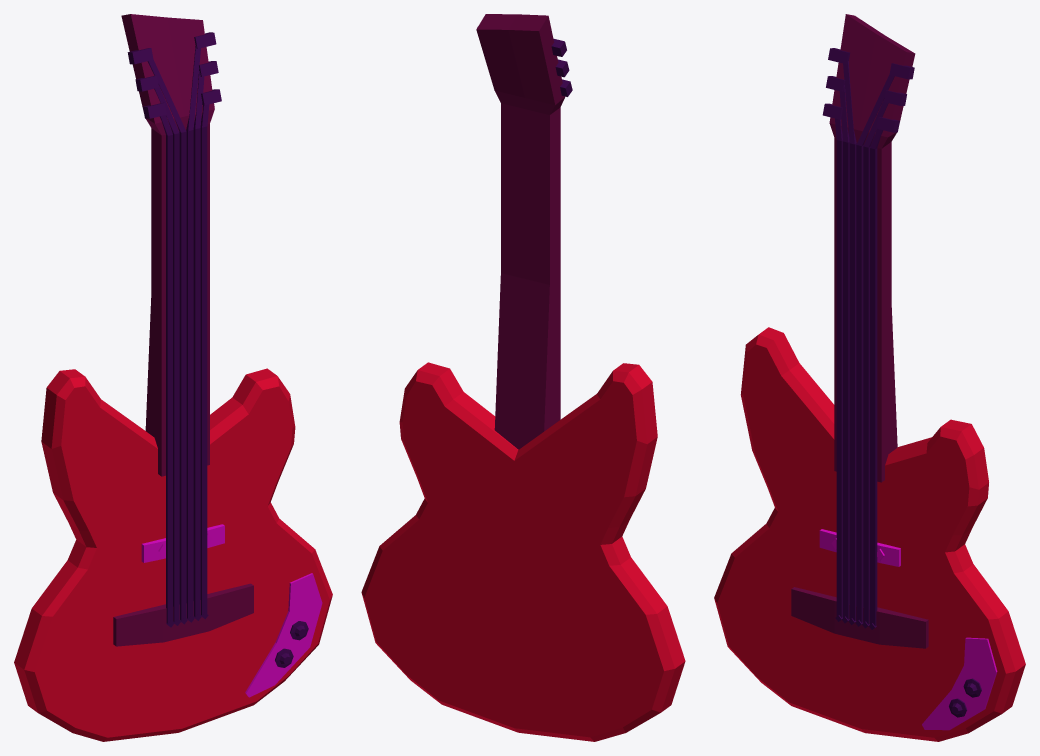
The model's file is ElectricGuitar_01.fbx.
3 renders of one model, left to right at view 1: azimuth 30°, elevation 25°; view 2: azimuth 150°, elevation 25°; view 3: azimuth 330°, elevation 25°, orthographic. The views are drawn at different scales.
Parts seen in each view (by area): view 1: ElectricGuitar_01; view 2: ElectricGuitar_01; view 3: ElectricGuitar_01.
Part boxes in pixels (x1=…): ElectricGuitar_01: x1=14, y1=14, x2=332, y2=741; ElectricGuitar_01: x1=361, y1=14, x2=685, y2=741; ElectricGuitar_01: x1=714, y1=14, x2=1025, y2=741.
Size of the model in its own units: 4.83 by 10.71 by 0.9024.
